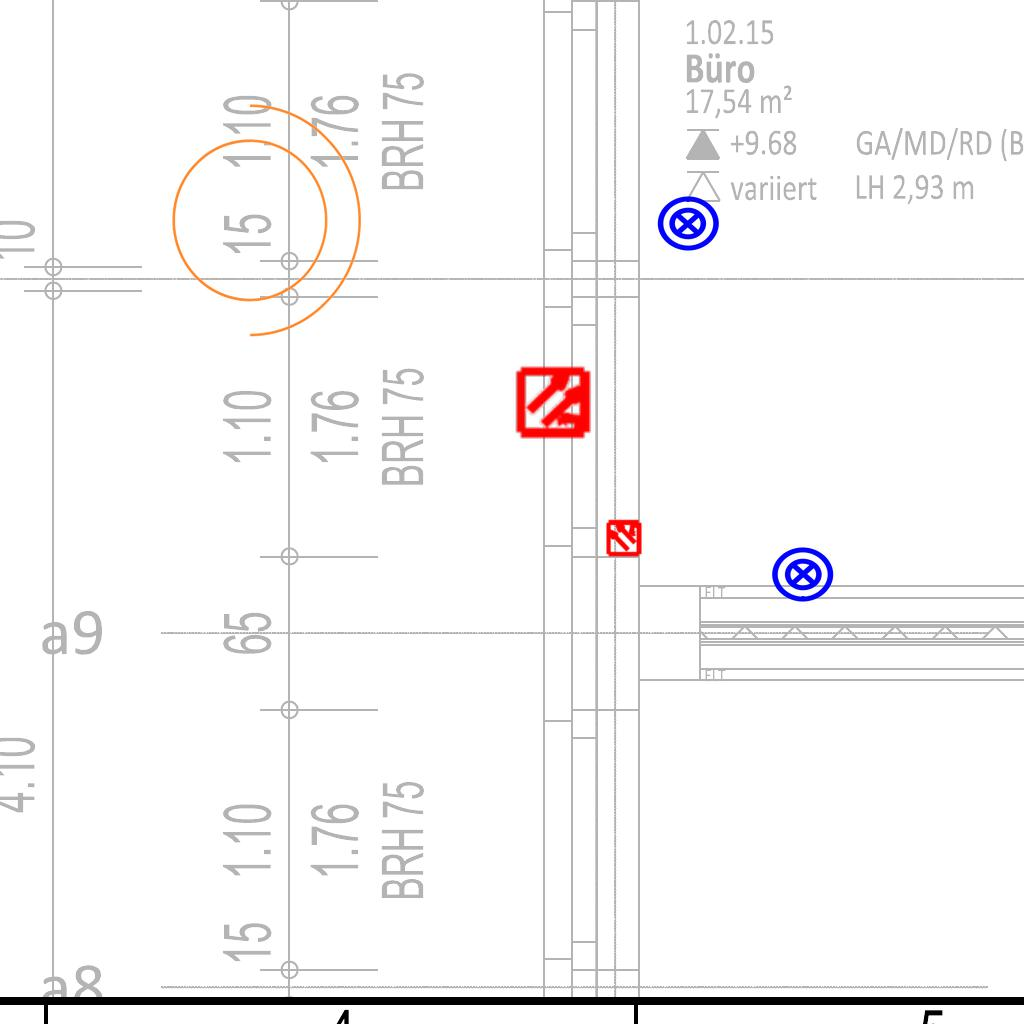OT_Multisensormelder_(Kombination_RMO_WMD): (499, 346, 612, 459), (596, 509, 652, 565)
Scheinwerfer_fuer_Alarmbeleuchtung: (147, 82, 372, 346)
Taster_beleuchtet: (770, 541, 836, 607), (655, 191, 721, 257)
